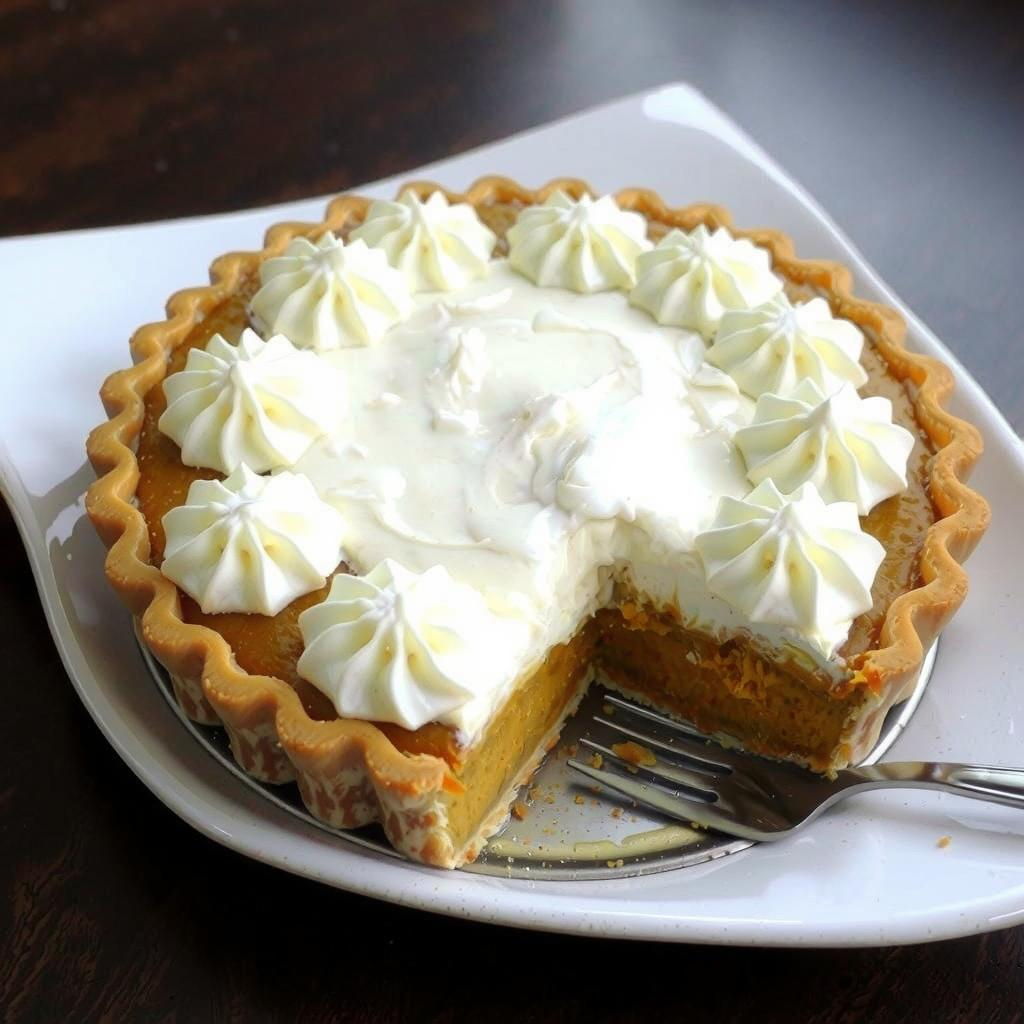pie: (76, 163, 996, 871)
